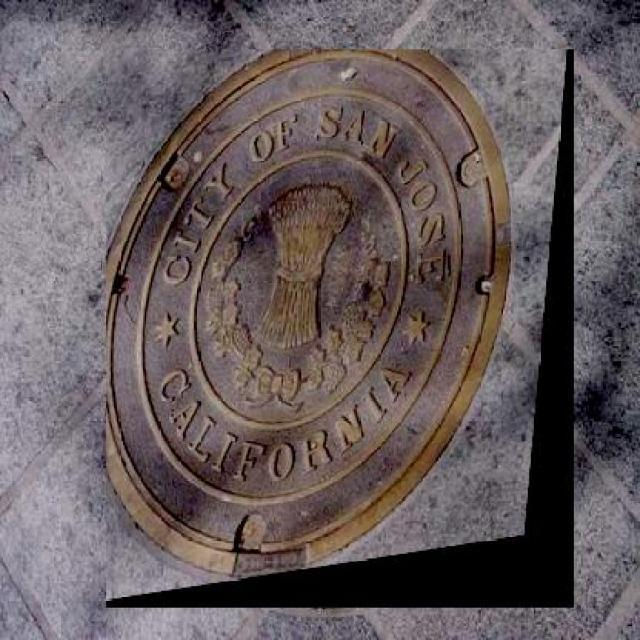Manhole: (108, 49, 576, 608)
